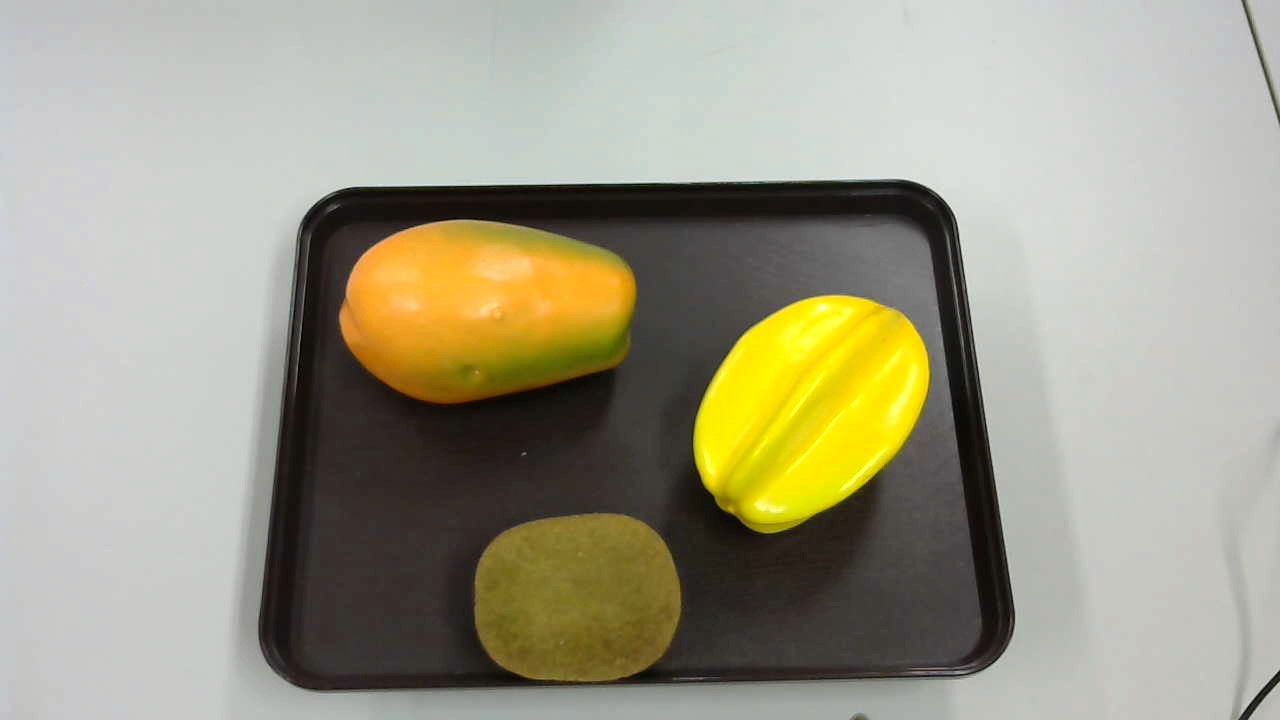kiwi fruit: (472, 510, 681, 685)
papya: (337, 215, 644, 412)
star fruit: (695, 294, 930, 534)
